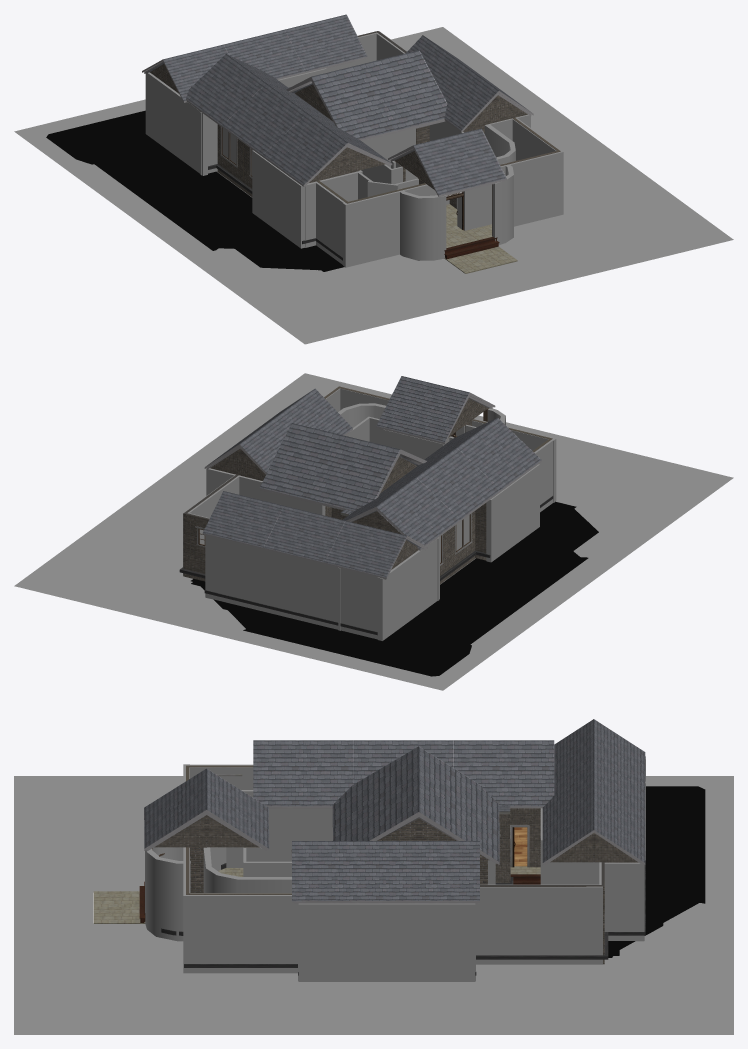
Rendered from zhuzhai_siheyuan01.FBX.
3 views of the same model, one above another, from view 1: azimuth 30°, elevation 25°; view 2: azimuth 150°, elevation 25°; view 3: azimuth 270°, elevation 25° (orthographic). The views are drawn at different scales.
Visible parts, largest first — view 1: floor_dz, wall_wd, box_1l, shadow, Box001, wall_1l, floor_1l; view 2: floor_dz, wall_wd, box_1l, shadow, wall_1l, Box001; view 3: floor_dz, wall_wd, box_1l, shadow, wall_1l, Object131, floor_1l.
Part boxes in pixels (x1,y1,x2,y2): floor_dz: (14,27,733,344); wall_wd: (142,14,533,196); box_1l: (200,31,563,267); shadow: (46,110,344,271); Box001: (145,72,207,175); wall_1l: (150,31,560,260); floor_1l: (444,204,517,273); floor_dz: (14,373,733,690); wall_wd: (202,376,541,579); box_1l: (183,385,556,639); shadow: (191,501,598,676); wall_1l: (179,386,553,635); Box001: (377,537,439,640); floor_dz: (14,776,733,1034); wall_wd: (144,719,645,904); box_1l: (145,764,644,981); shadow: (608,786,705,957); wall_1l: (139,765,645,975); Object131: (267,808,332,861); floor_1l: (93,827,527,923).
Size of the model in its own units: 2927 by 711 by 3438.
Materials: 6 (3 with a texture image).
